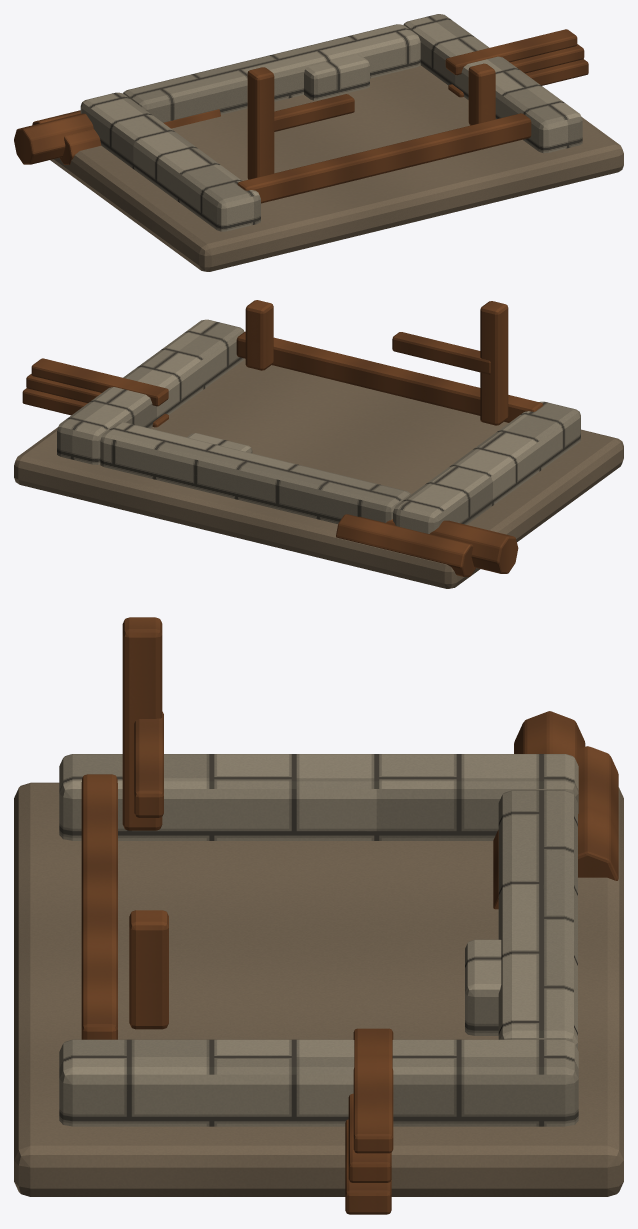
File: SawmillState0V1.glb
3 renders of one model, top to bottom at view 1: azimuth 30°, elevation 25°; view 2: azimuth 150°, elevation 25°; view 3: azimuth 270°, elevation 25°, orthographic. The views are drawn at different scales.
Visible parts, largest first — view 1: Sawmill_State0_Foundation, Sawmill_State0_Timber, Sawmill_State0_Materials; view 2: Sawmill_State0_Foundation, Sawmill_State0_Timber, Sawmill_State0_Materials; view 3: Sawmill_State0_Foundation, Sawmill_State0_Timber, Sawmill_State0_Materials.
Part boxes in pixels (x1,y1,x2,y2): Sawmill_State0_Foundation: (50,14,623,271); Sawmill_State0_Timber: (237,63,531,203); Sawmill_State0_Materials: (14,29,588,164); Sawmill_State0_Foundation: (14,319,623,588); Sawmill_State0_Timber: (236,300,543,425); Sawmill_State0_Materials: (22,358,518,576); Sawmill_State0_Foundation: (14,754,623,1196); Sawmill_State0_Timber: (81,617,168,1039); Sawmill_State0_Materials: (345,711,618,1214).
Bounding box in the file's own units: 6.5 × 1.91 × 3.7.
Materials: 5 (5 with a texture image).
